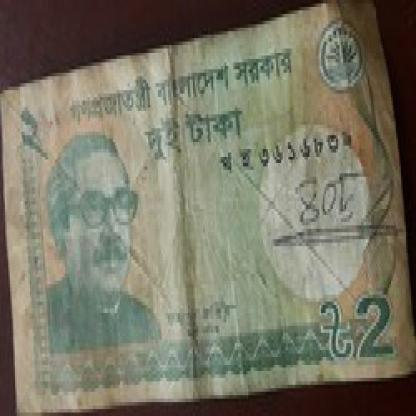two taka: (348, 281, 398, 378), (8, 104, 53, 177)
